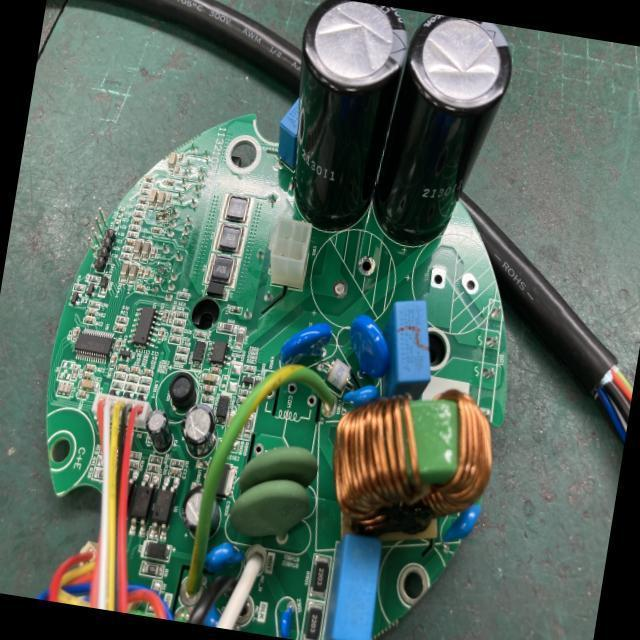damged: (157, 211, 170, 223)
